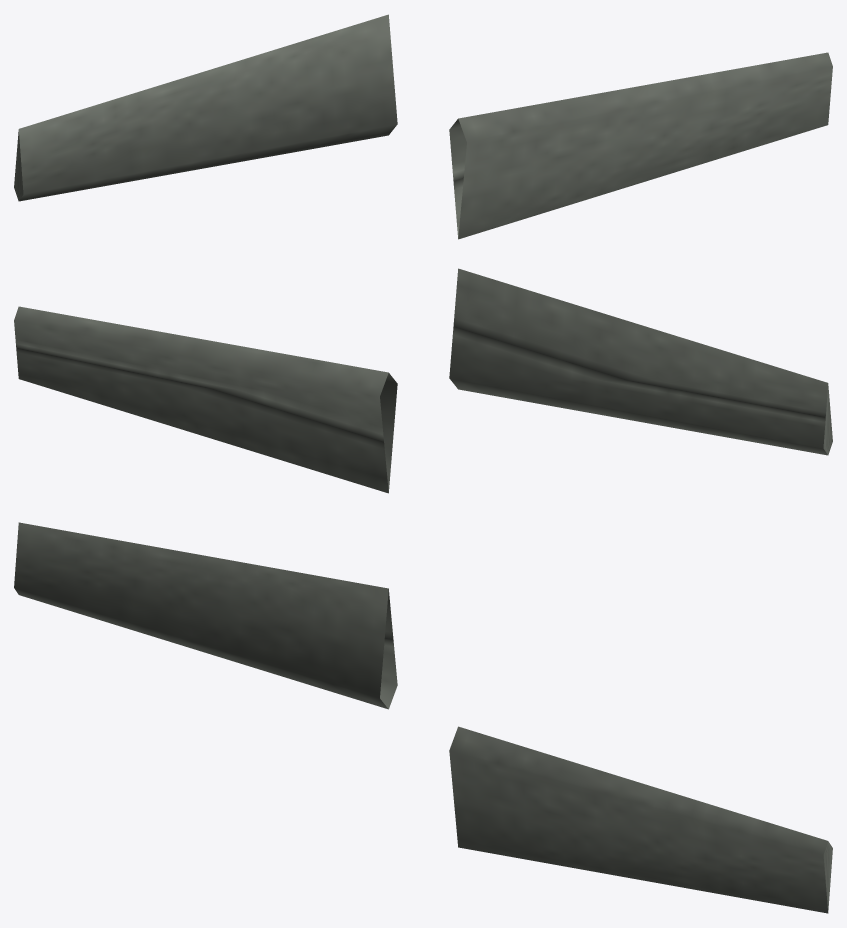
The model's file is loiter_prop_lod1.obj.
3 renders of one model, top to bottom at view 1: azimuth 30°, elevation 25°; view 2: azimuth 150°, elevation 25°; view 3: azimuth 330°, elevation 25°, orthographic.
Bounding box in the file's own units: 0.7 × 0.2 × 0.0266.
